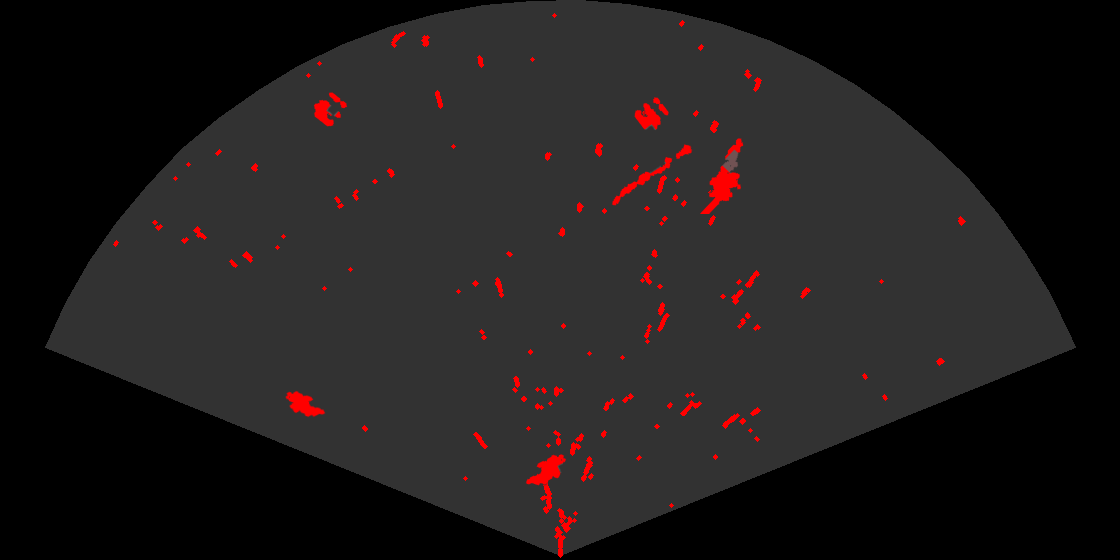AUV: (524, 453, 568, 487), (284, 389, 327, 419)
ball: (312, 91, 349, 128), (633, 96, 670, 131)
chain: (611, 143, 694, 207)
frogman: (699, 137, 745, 214)
